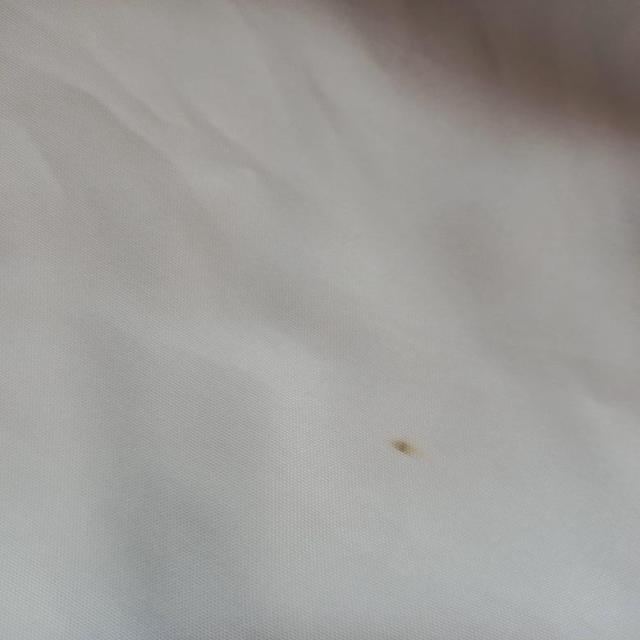stain: (376, 427, 436, 462)
